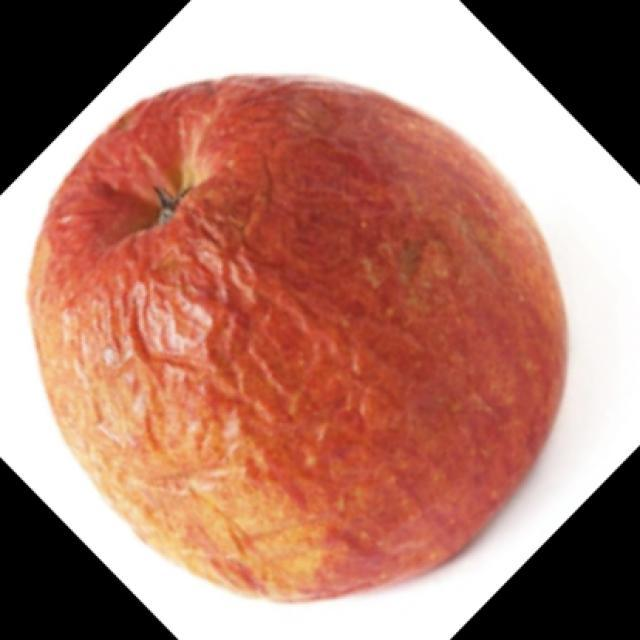Rotten: (55, 78, 558, 590)
